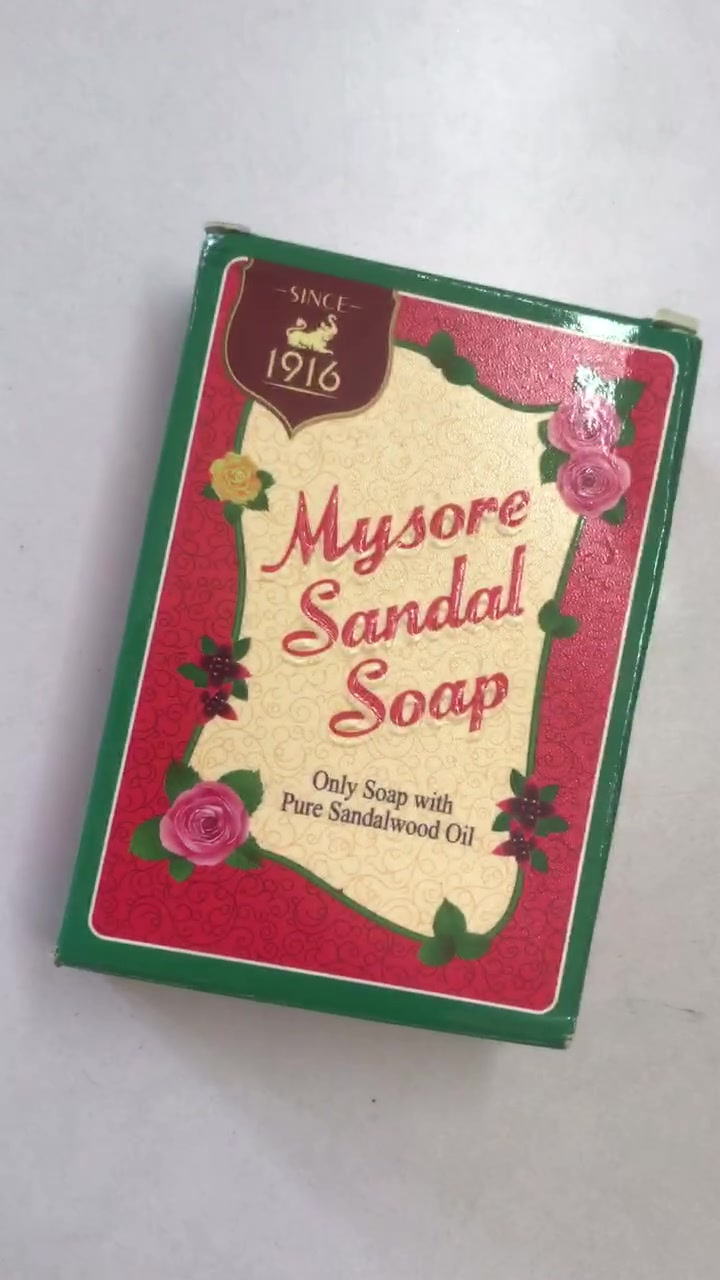mysore sandal soap: (49, 227, 703, 1056)
